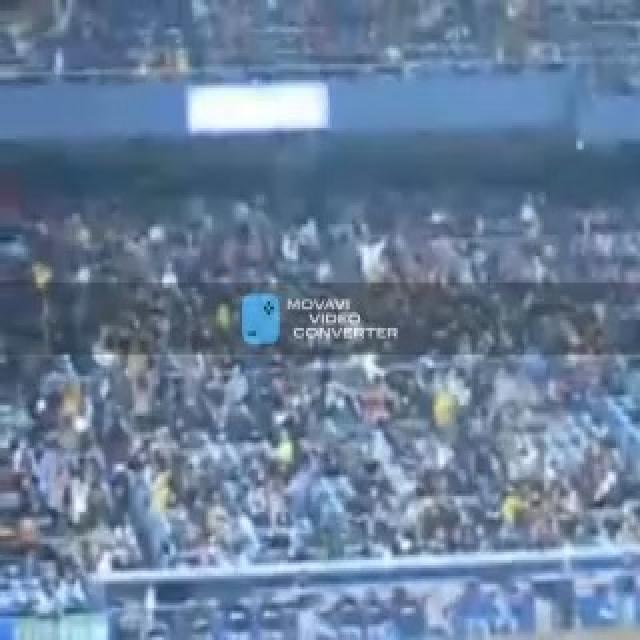non-voilence: (0, 182, 638, 638), (284, 290, 400, 346)
